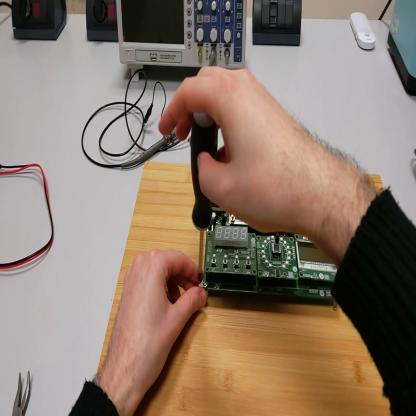hand: (158, 64, 311, 234), (109, 248, 208, 395)
low voltage board: (205, 203, 337, 299)
oscilloscope: (118, 1, 248, 81)
oscilloscope probe tip: (121, 132, 178, 167)
pliers: (14, 370, 33, 413)
screwdriver-: (191, 113, 219, 280)
socket: (11, 1, 70, 43), (86, 2, 120, 45)
welder station: (389, 2, 416, 94)
working area: (100, 161, 391, 416)
